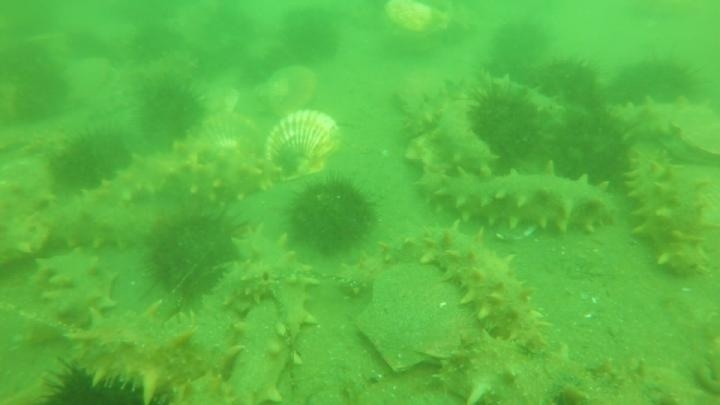echinus: (143, 205, 245, 306), (286, 174, 378, 258), (472, 85, 560, 172), (545, 109, 635, 189), (605, 54, 704, 114), (50, 126, 135, 195), (37, 355, 152, 404), (125, 78, 202, 147), (174, 4, 258, 67), (1, 81, 74, 152), (481, 46, 564, 99), (532, 53, 602, 109), (278, 9, 343, 66), (489, 18, 553, 68), (135, 24, 184, 68)
holothurian: (340, 232, 550, 356), (42, 295, 247, 404), (446, 327, 675, 405), (220, 226, 319, 403), (60, 145, 281, 221), (417, 161, 620, 239), (627, 149, 720, 282), (407, 75, 473, 197), (30, 247, 121, 329), (1, 144, 58, 271), (604, 93, 718, 153), (476, 73, 569, 125)
scallop: (350, 261, 477, 377), (261, 109, 345, 185), (184, 110, 267, 170), (663, 97, 720, 168), (252, 64, 322, 120), (379, 1, 453, 51), (59, 56, 117, 99), (192, 81, 242, 121)
